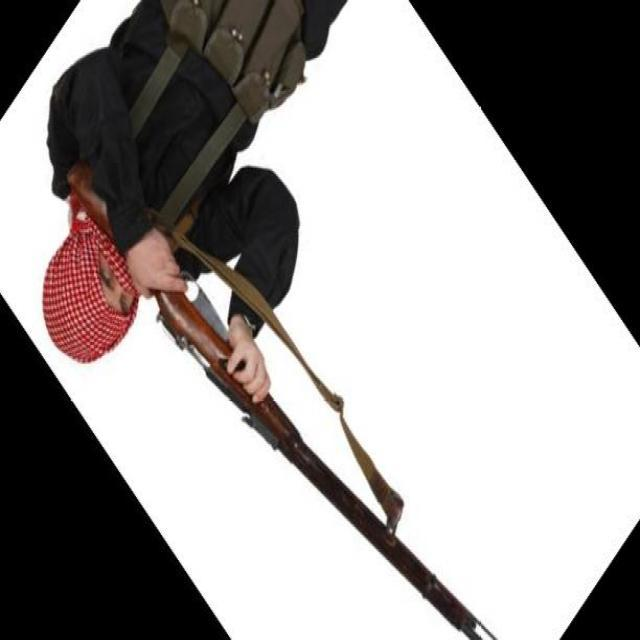weapon: (67, 155, 498, 640)
